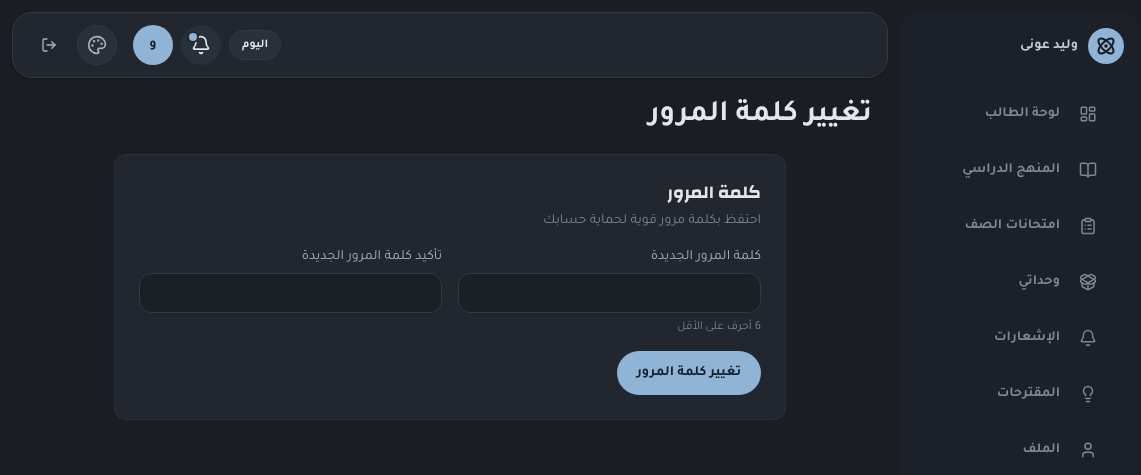
Test: StudentChangePasswordPage › shows an error toast for unexpected failures
Type "newpass1" into the password field labelled "كلمة المرور الجديدة" at {"x": 610, "y": 293}, box [458, 273, 761, 313]
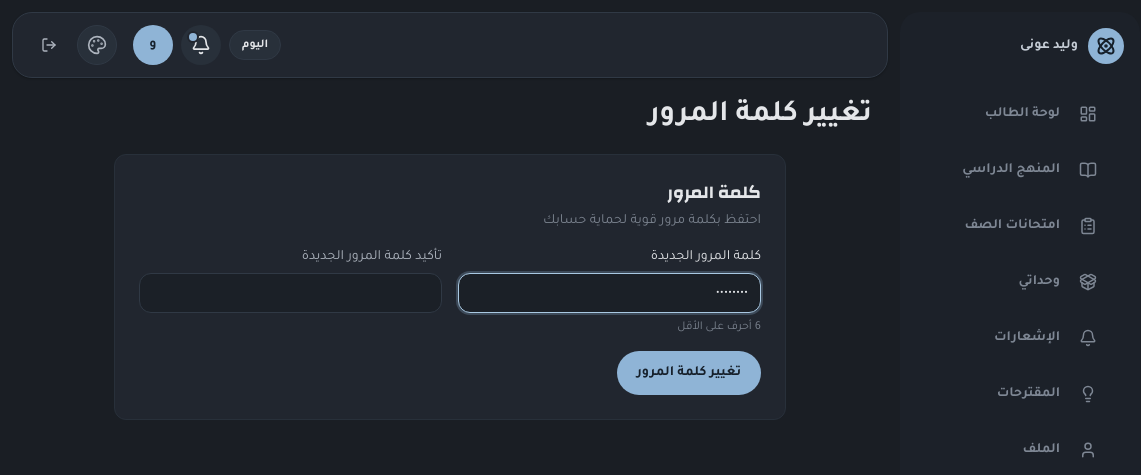
Type "newpass1" into the password field labelled "تأكيد كلمة المرور الجديدة" at {"x": 290, "y": 293}, box [139, 273, 442, 313]
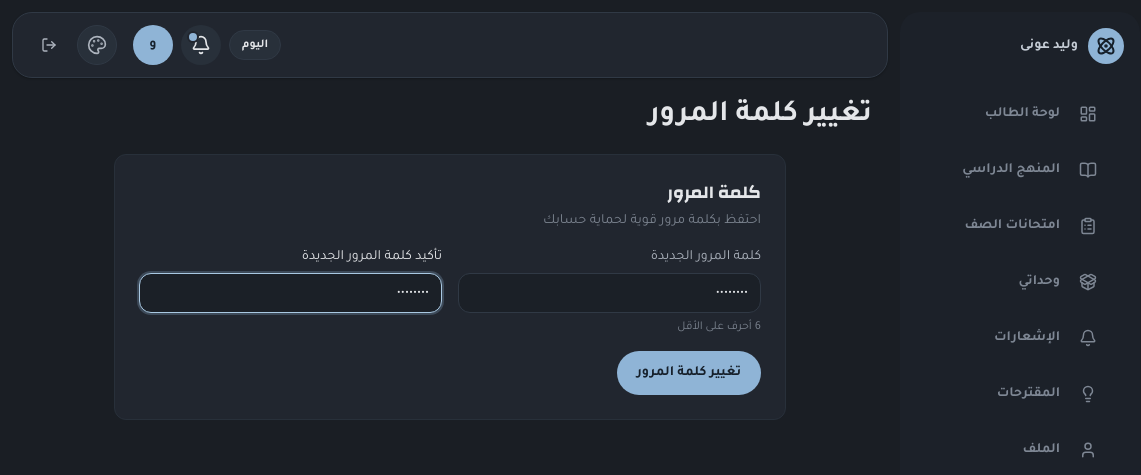
Click the button "تغيير كلمة المرور" at {"x": 689, "y": 373}, box [617, 351, 761, 395]
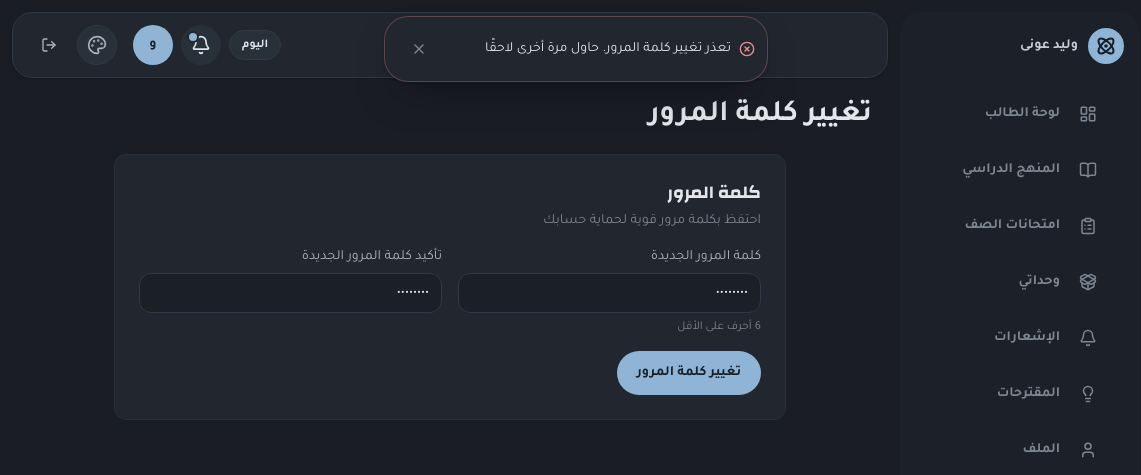
Check: the text "تعذر تغيير كلمة المرور. حاول مرة أخرى لاحقًا" is shown, box [449, 39, 731, 59]
